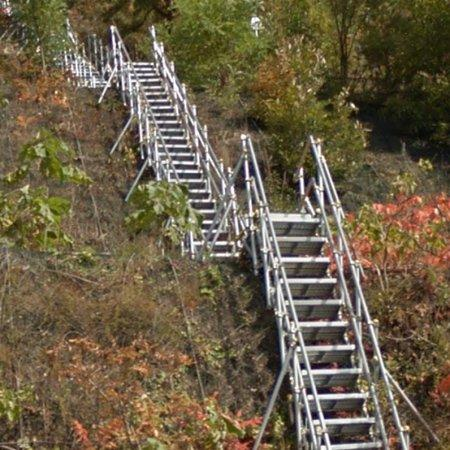stairs: (64, 26, 410, 450)
